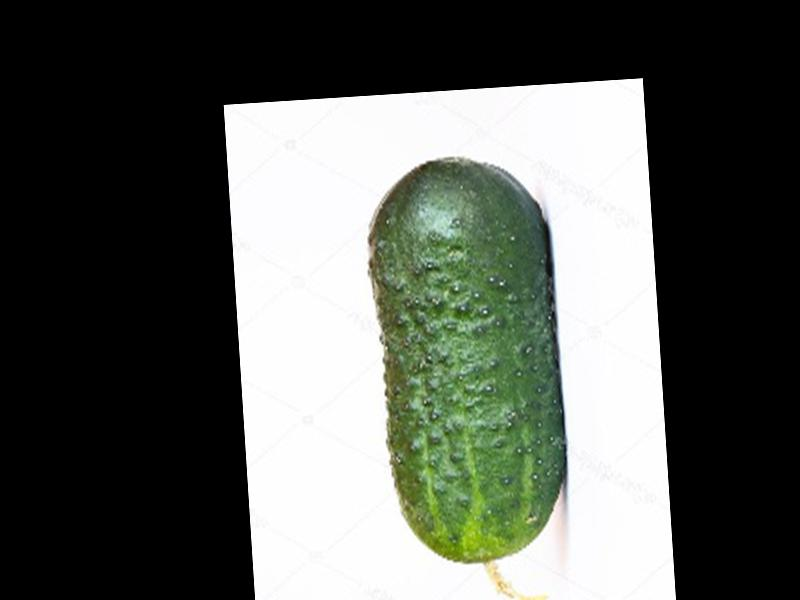Cucumber: (365, 155, 572, 600)
